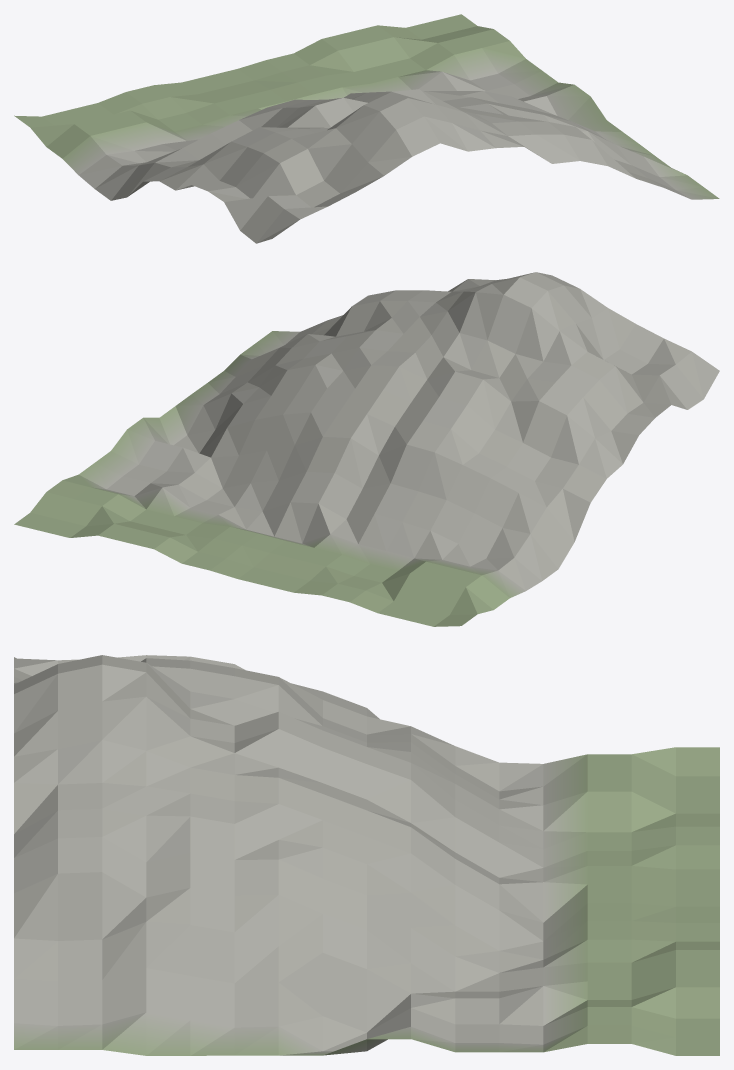
3 views of the same model, one above another, from view 1: azimuth 30°, elevation 25°; view 2: azimuth 150°, elevation 25°; view 3: azimuth 270°, elevation 25° (orthographic). The views are drawn at different scales.
Size of the model in its own units: 32 by 11.04 by 32.
